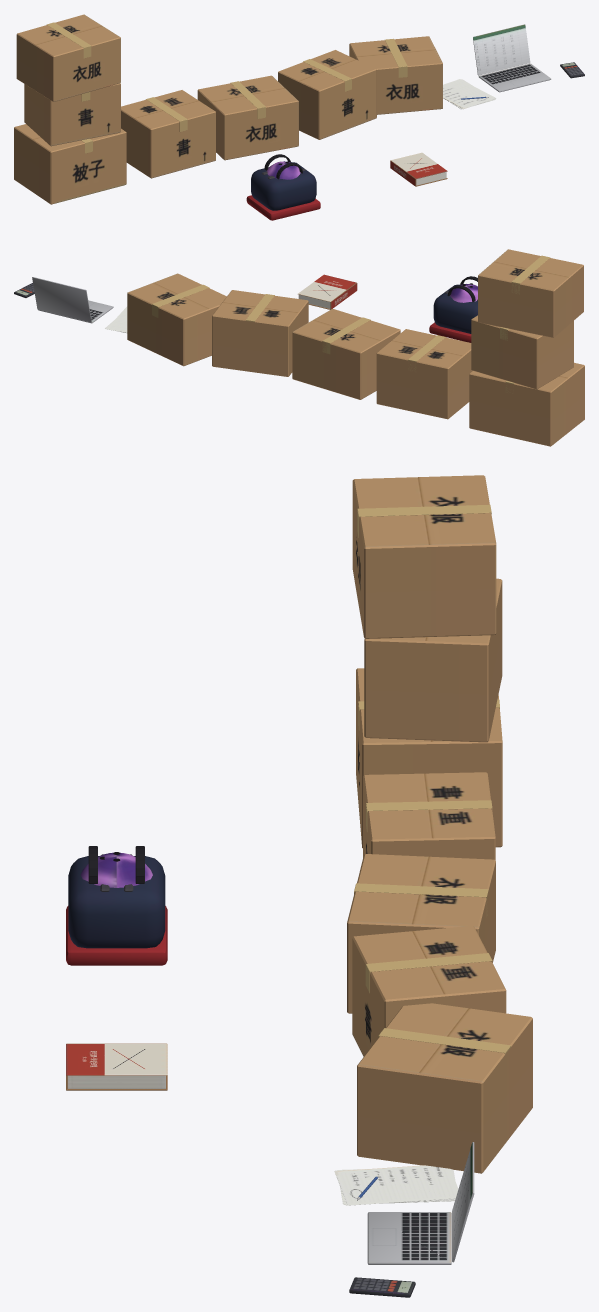
The model's file is v0_dorm_props.glb.
3 views of the same model, one above another, from view 1: azimuth 30°, elevation 25°; view 2: azimuth 150°, elevation 25°; view 3: azimuth 270°, elevation 25° (orthographic). The views are drawn at different scales.
Parts seen in each view (by area): view 1: BOXES_ONBED, BOXES_BED, BOXES_FOOT, XUN_DESK, XUN_BOWLING, BOOK_ECON; view 2: BOXES_ONBED, BOXES_BED, BOXES_FOOT, XUN_DESK, XUN_BOWLING, BOOK_ECON; view 3: BOXES_ONBED, BOXES_FOOT, BOXES_BED, XUN_DESK, XUN_BOWLING, BOOK_ECON.
Boxes of the visible parts, left/top/right/bottom form: BOXES_ONBED: left=14, top=14, right=126, bottom=204; BOXES_BED: left=121, top=75, right=298, bottom=178; BOXES_FOOT: left=278, top=36, right=442, bottom=139; XUN_DESK: left=443, top=24, right=584, bottom=109; XUN_BOWLING: left=246, top=154, right=320, bottom=220; BOOK_ECON: left=390, top=152, right=447, bottom=186; BOXES_ONBED: left=469, top=249, right=584, bottom=446; BOXES_BED: left=292, top=308, right=472, bottom=419; BOXES_FOOT: left=127, top=273, right=308, bottom=376; XUN_DESK: left=14, top=277, right=127, bottom=333; XUN_BOWLING: left=429, top=276, right=477, bottom=342; BOOK_ECON: left=298, top=274, right=357, bottom=309; BOXES_ONBED: left=352, top=475, right=502, bottom=848; BOXES_FOOT: left=352, top=925, right=532, bottom=1173; BOXES_BED: left=347, top=772, right=495, bottom=1013; XUN_DESK: left=334, top=1142, right=474, bottom=1297; XUN_BOWLING: left=66, top=846, right=167, bottom=965; BOOK_ECON: left=66, top=1043, right=167, bottom=1090.
Size of the model in its own units: 3.19 by 0.8412 by 1.2.
Materials: 1 (1 with a texture image).
